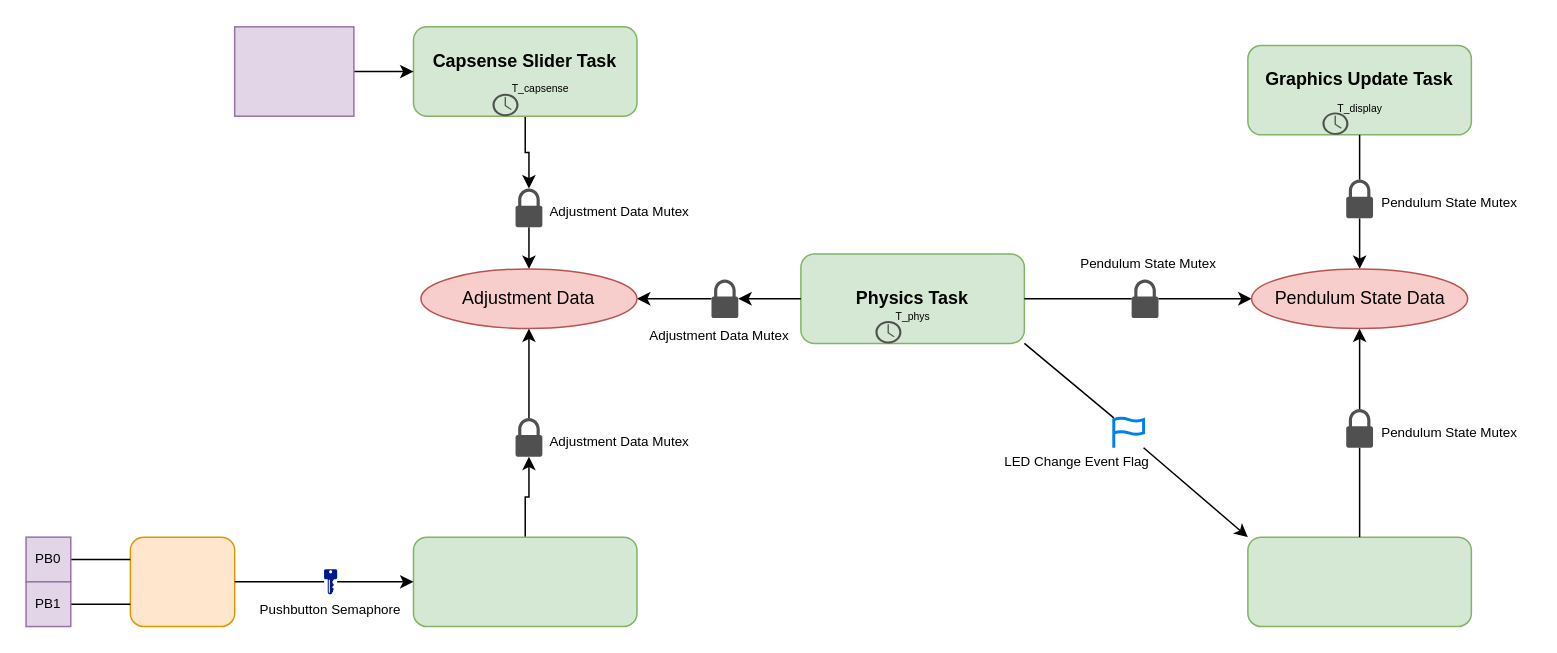
This 1557x653 diagram has some shape labels left out. Each missing label, with the centre of its shape:
"GPIO IRQ" goes at pixel 182 581.
"LED Adjustment Task" goes at pixel 1358 581.
"Pushbutton Task" goes at pixel 524 581.
"Touch Slider" goes at pixel 293 70.
